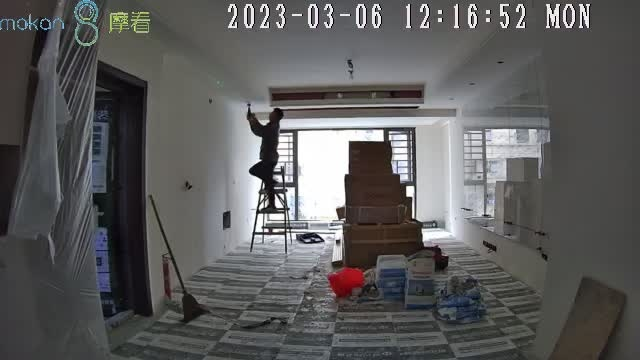people: (247, 108, 286, 211)
window: (298, 131, 347, 214)
